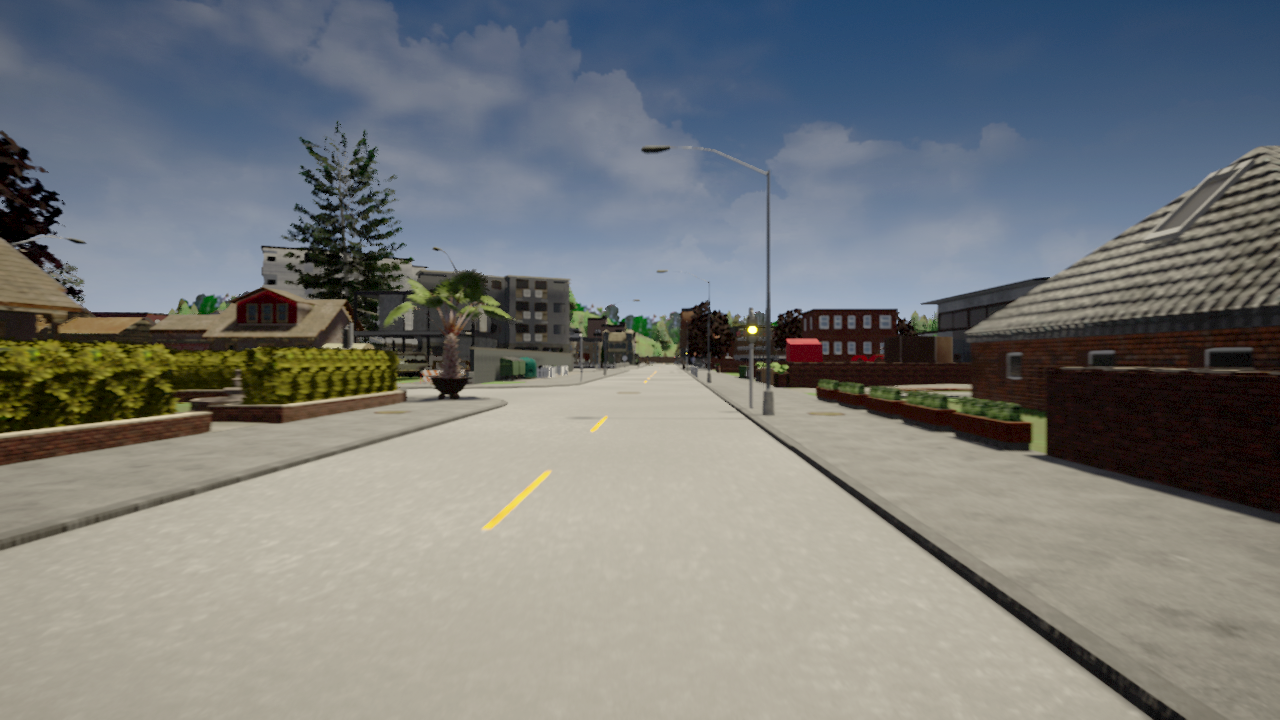yellow: (747, 313, 757, 342)
